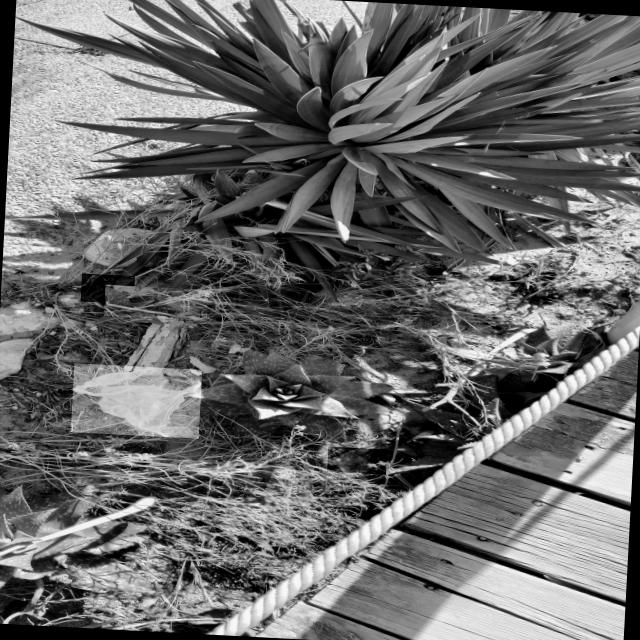Cigarette: (63, 240, 72, 246)
Plastic film: (73, 368, 201, 437), (105, 288, 206, 321), (328, 449, 386, 473), (81, 276, 134, 302)
